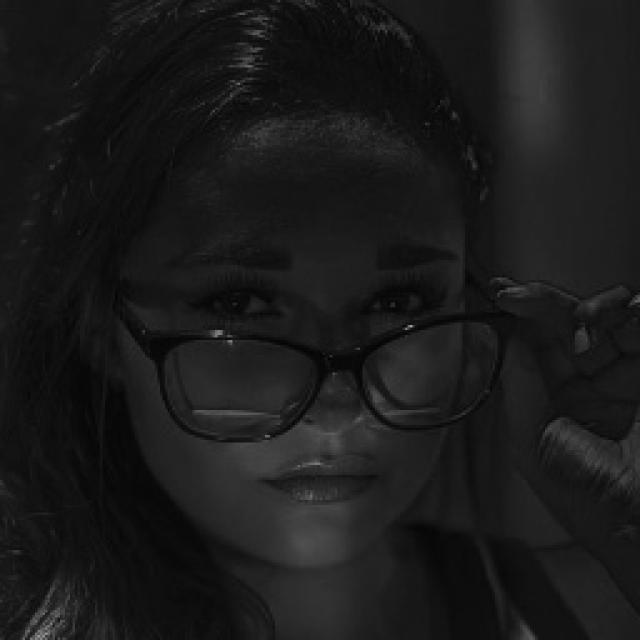glasses: (111, 290, 528, 470)
